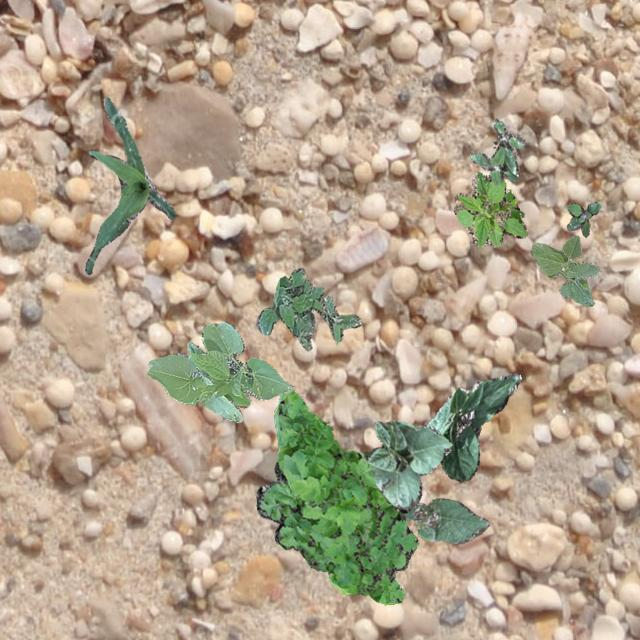crop: (84, 95, 176, 274), (146, 321, 292, 422), (426, 372, 520, 482), (364, 419, 452, 508), (530, 234, 600, 306), (402, 497, 488, 542)
weed: (255, 388, 418, 604), (256, 266, 360, 350), (452, 170, 526, 246), (468, 118, 524, 184), (566, 200, 600, 237)
